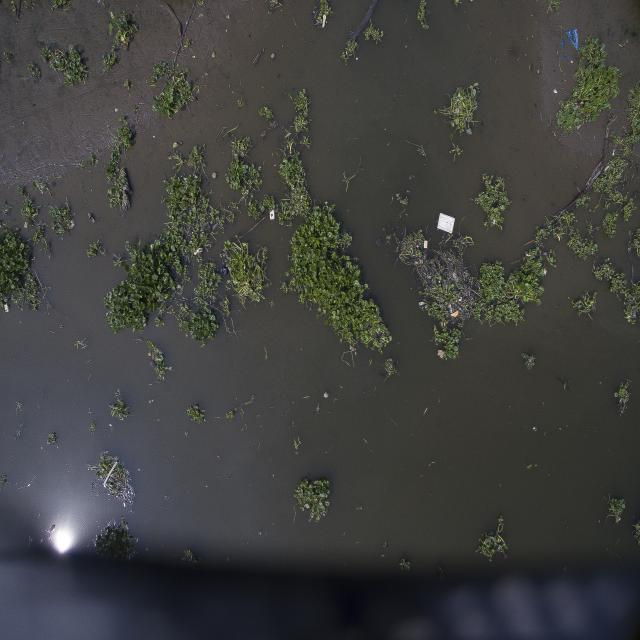plastic: (554, 20, 587, 71), (436, 206, 459, 238), (267, 208, 279, 224)
